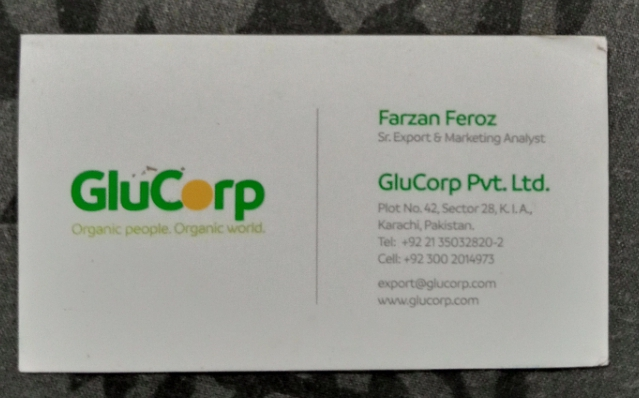alphabetical: (49, 145, 284, 253), (372, 102, 500, 130)
numerical: (400, 233, 508, 251), (404, 251, 499, 270)
